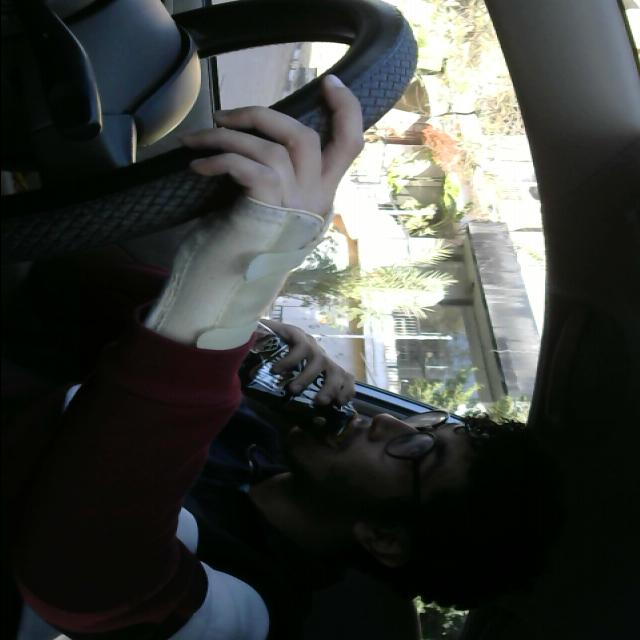eating: (177, 270, 371, 467)
